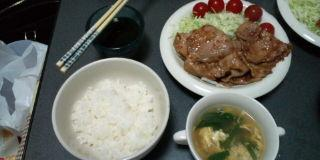plate: (52, 58, 169, 159)
rice: (70, 78, 163, 159)
